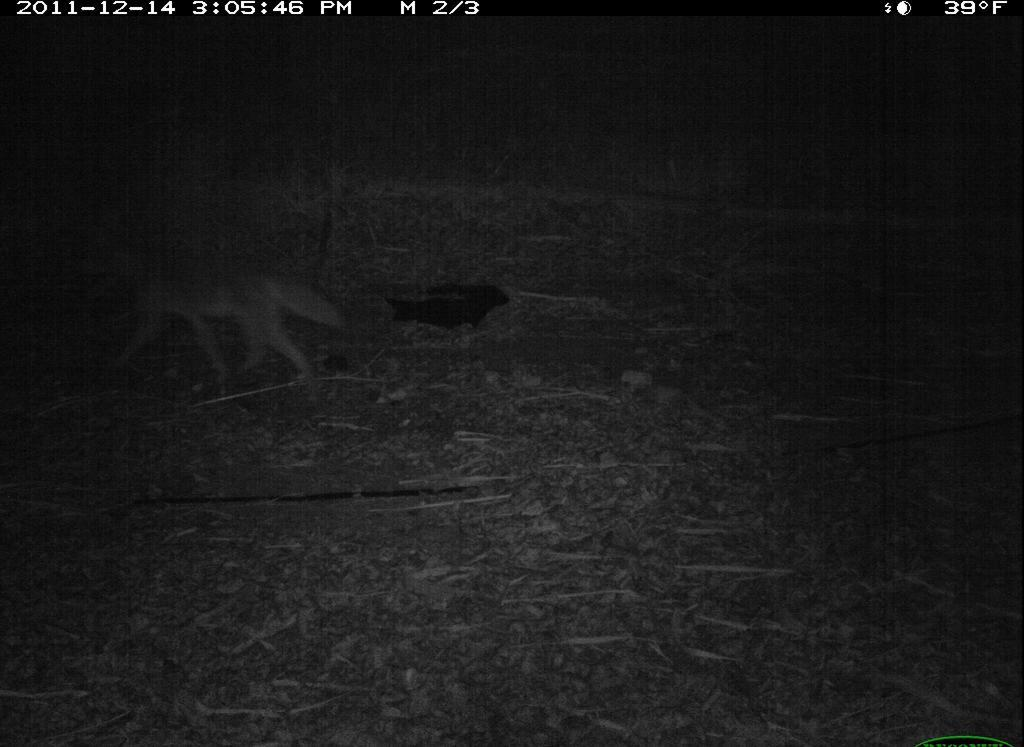coyote: (77, 248, 353, 399)
